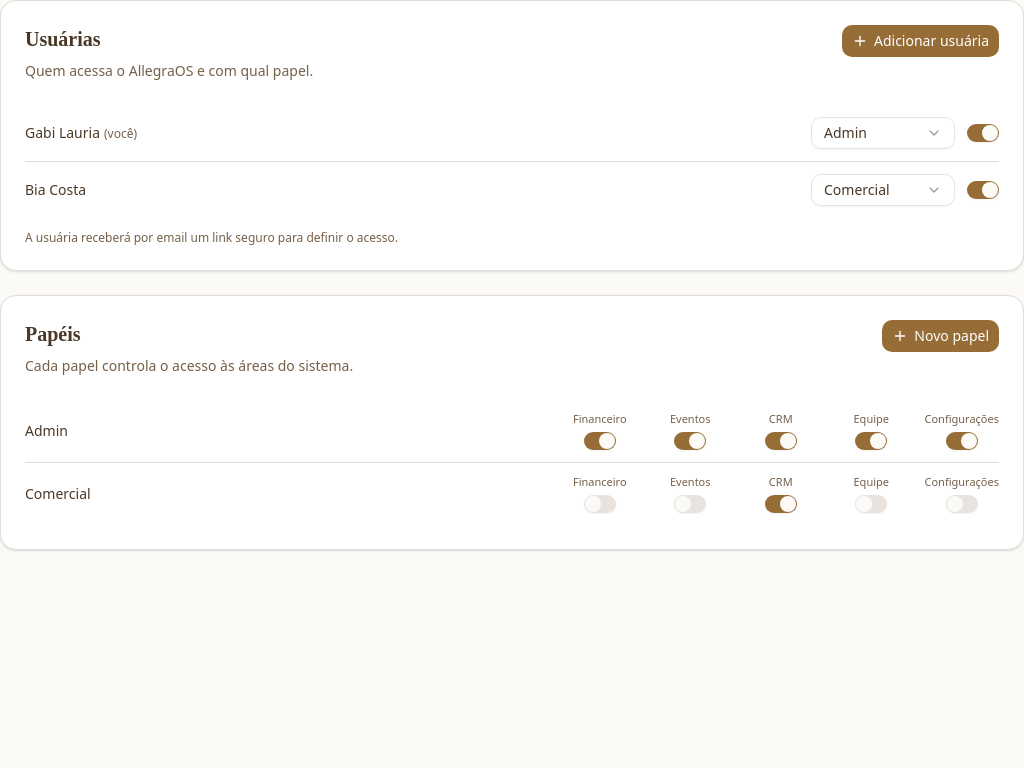
Test case: UsuariasTab › updates ordinary role permissions and protects the last settings-capable role
Click the switch named "CRM de Comercial" at (781, 504), box [765,495,797,513]
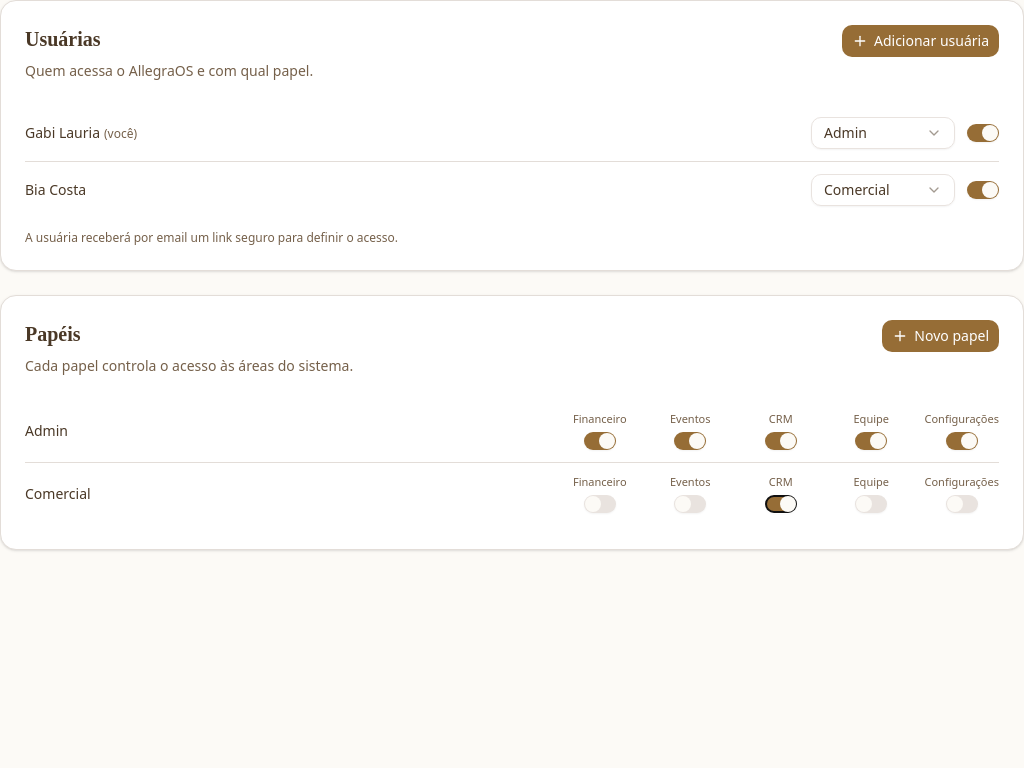
Click the switch named "Configurações de Admin" at (962, 441), box [946,432,978,450]
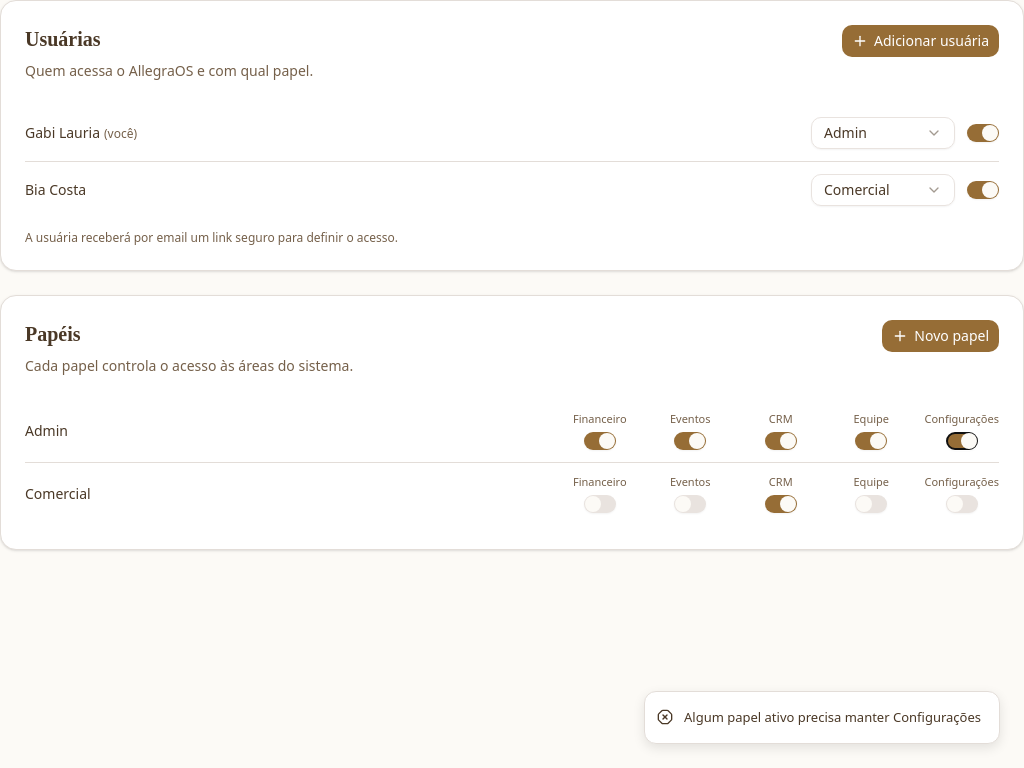
Result: the text "Algum papel ativo precisa manter Configurações" is shown at [684,708,981,727]
